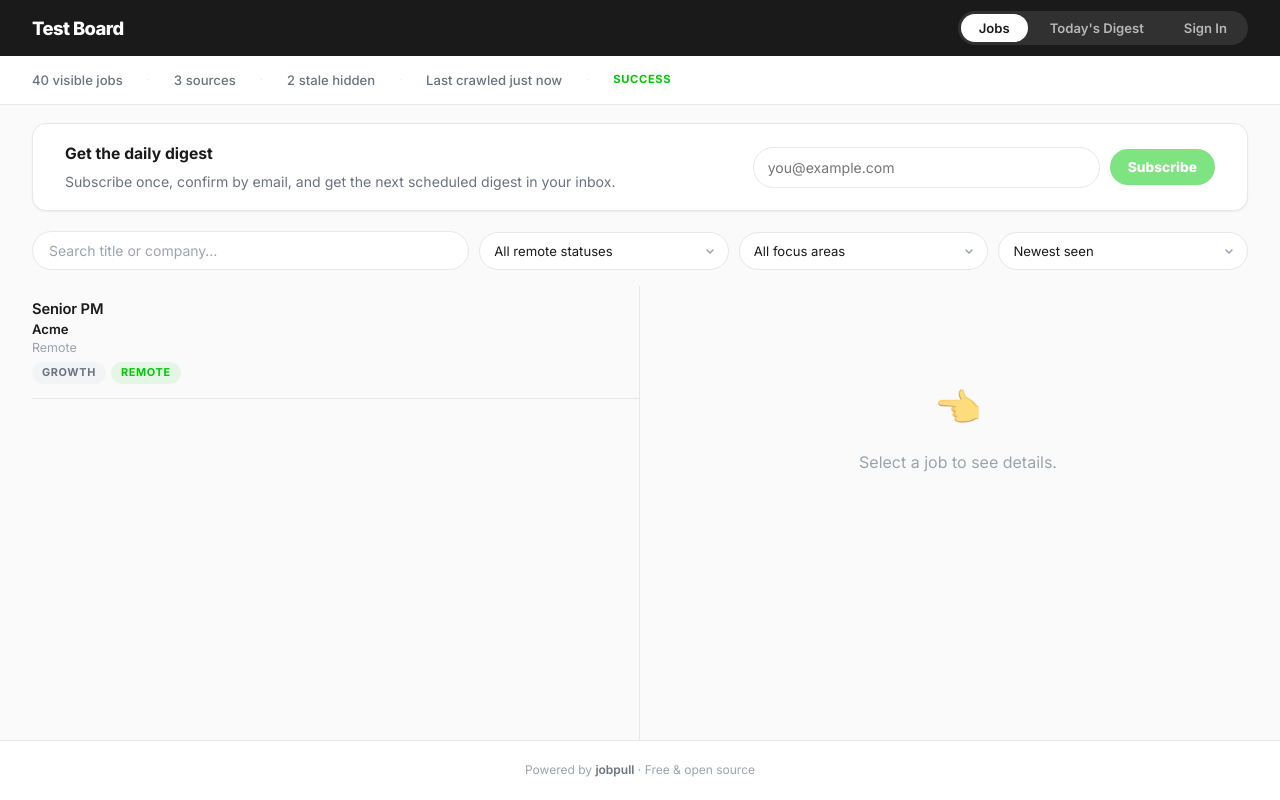
App › shows an inline detail error when the full job fetch fails
This screenshot has width=1280, height=800.
Click the text "Senior PM": (68, 310) [32,300,103,318]
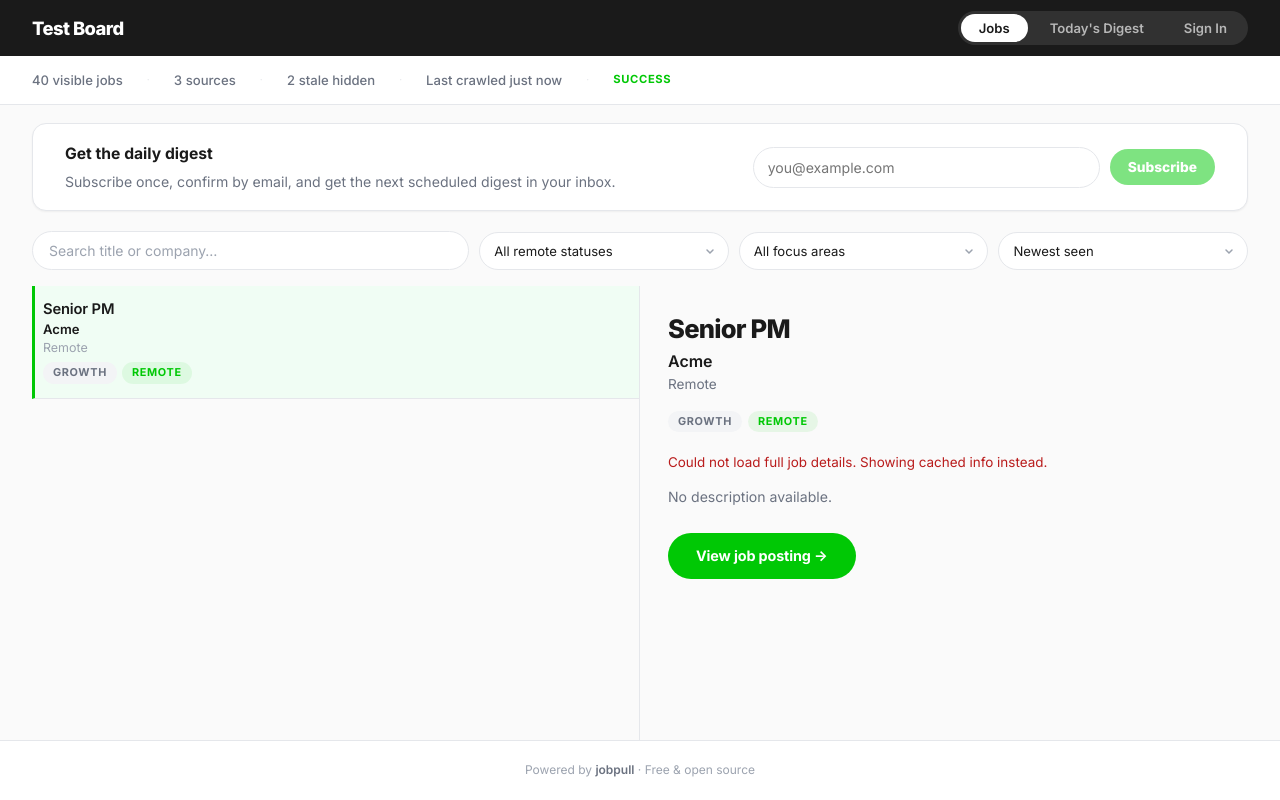
Expected: the text "Could not load full job details" is shown, [668,454,1047,470]
